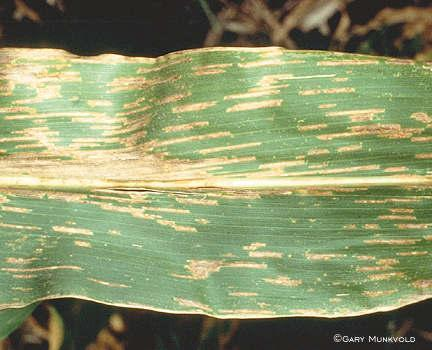Corn_Blight: (4, 98, 283, 247), (292, 85, 431, 184), (2, 37, 183, 93), (170, 294, 432, 321), (188, 55, 426, 76), (178, 251, 289, 284), (5, 251, 99, 288), (353, 195, 431, 233), (304, 243, 432, 265), (109, 276, 142, 295)
